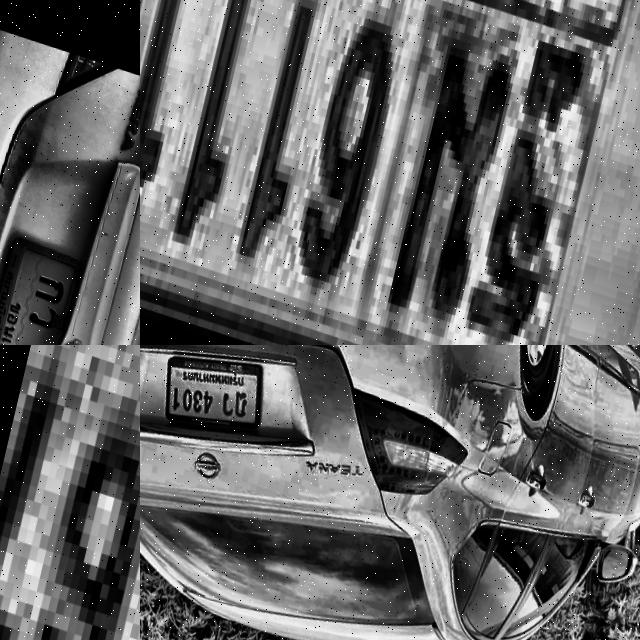license-plate: (140, 0, 640, 345), (0, 345, 140, 640), (150, 345, 274, 450), (0, 292, 115, 345)
